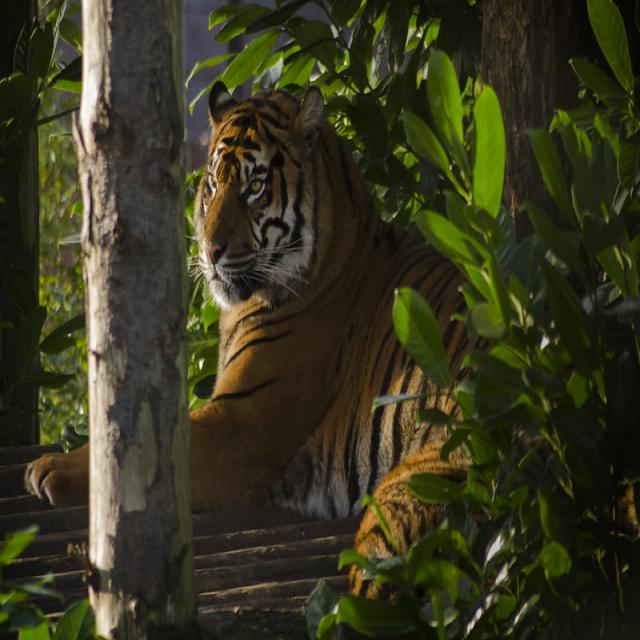Tiger: (18, 79, 562, 618)
